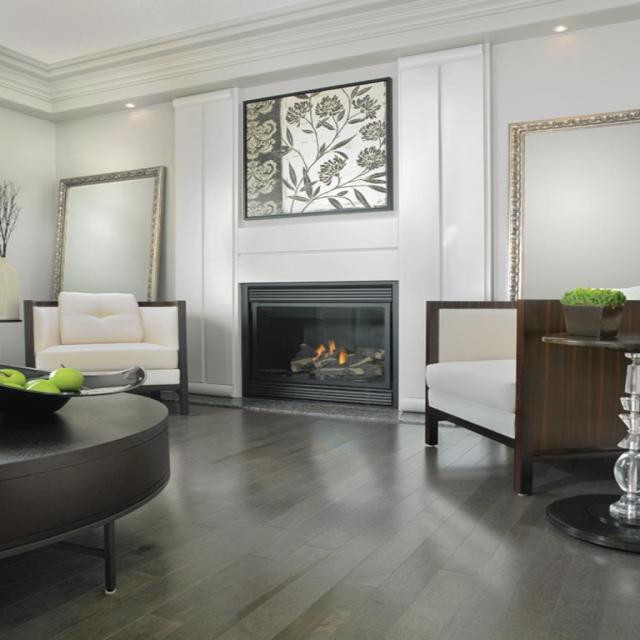Fire: (301, 341, 359, 374)
